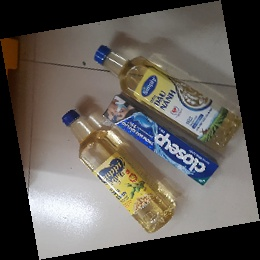CloseUp Tuyet: (103, 95, 218, 185)
Happy Soya: (62, 108, 176, 233)
Simply: (92, 44, 242, 149)
